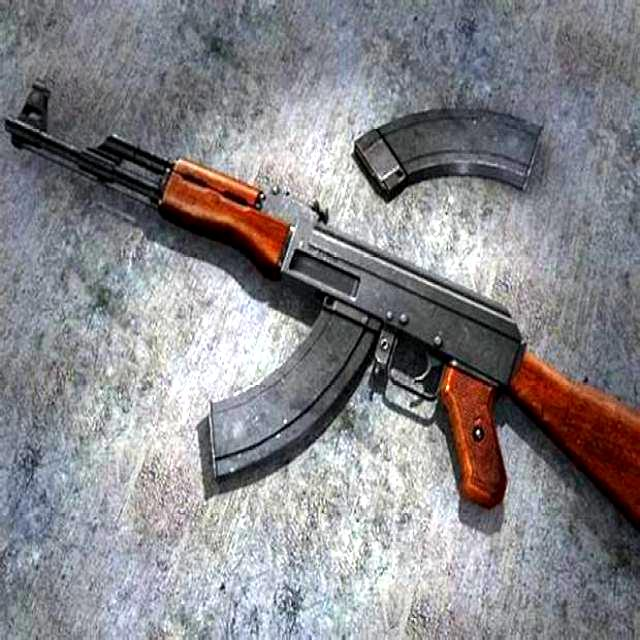ak: (8, 74, 640, 529)
